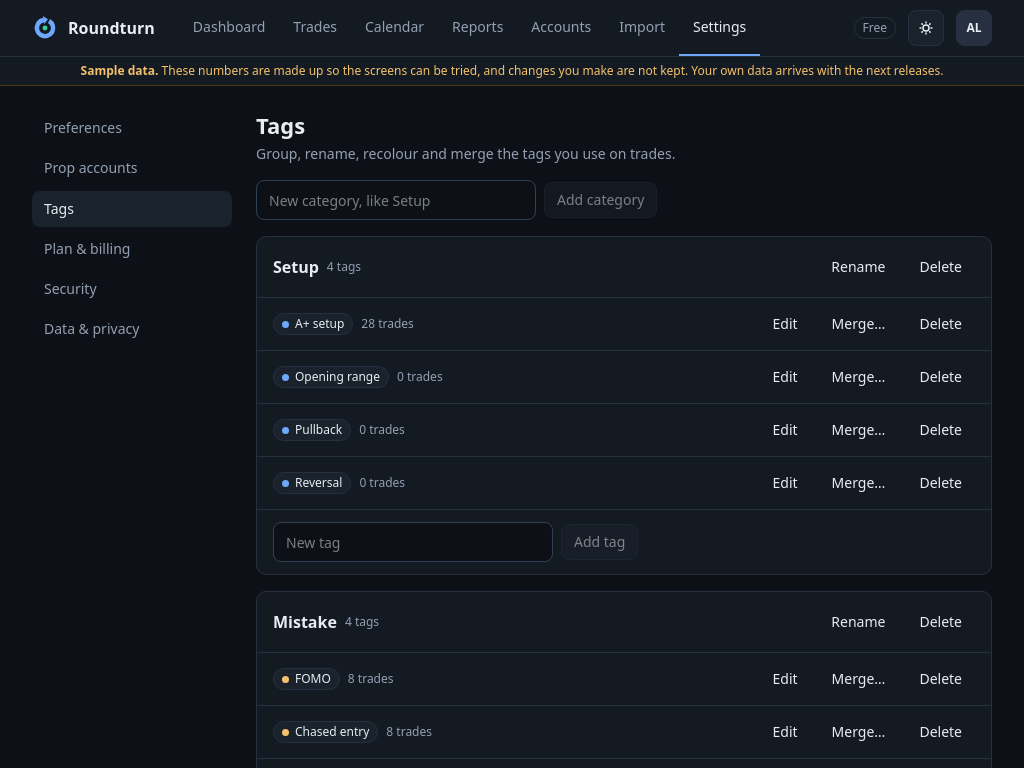
the tags screen › renames a category, and refuses a name another category has
Expected: the heading "Tags" is shown, [256,110,305,140]
Expected: the element named "Category Setup" is shown, [256,236,992,575]
Click the button with aria-label "Rename category Setup": point(858, 267) [818,249,898,285]
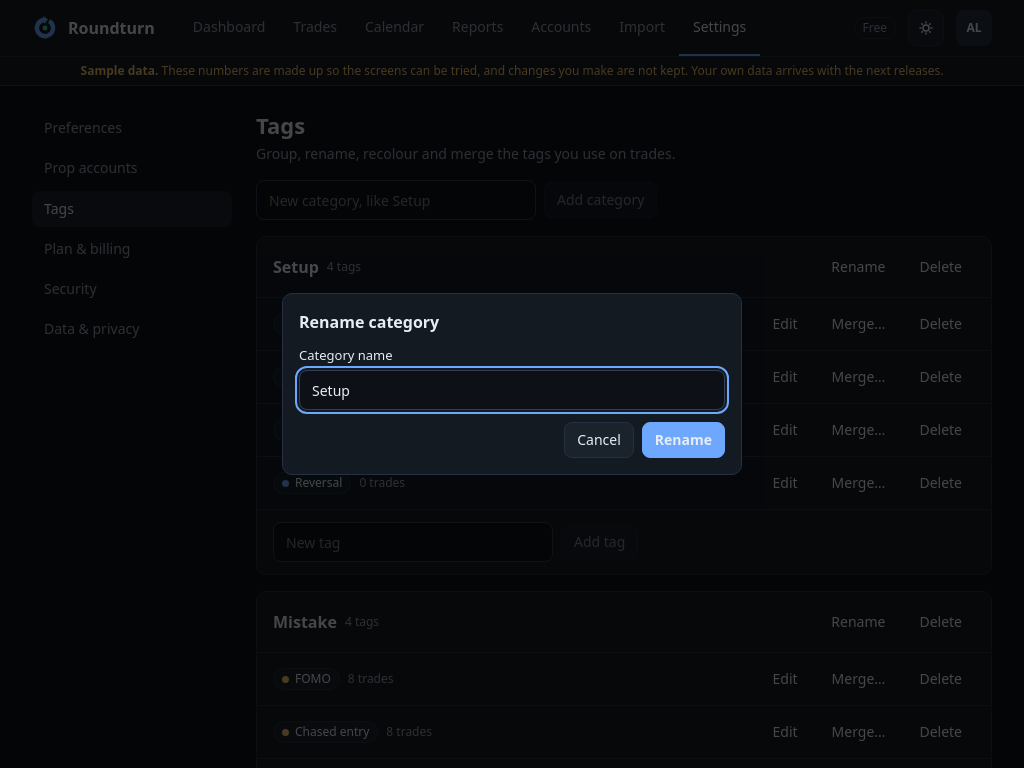
Replace the text in the field labelled "Category name" with "mistake": point(512, 390) [299,370,725,410]
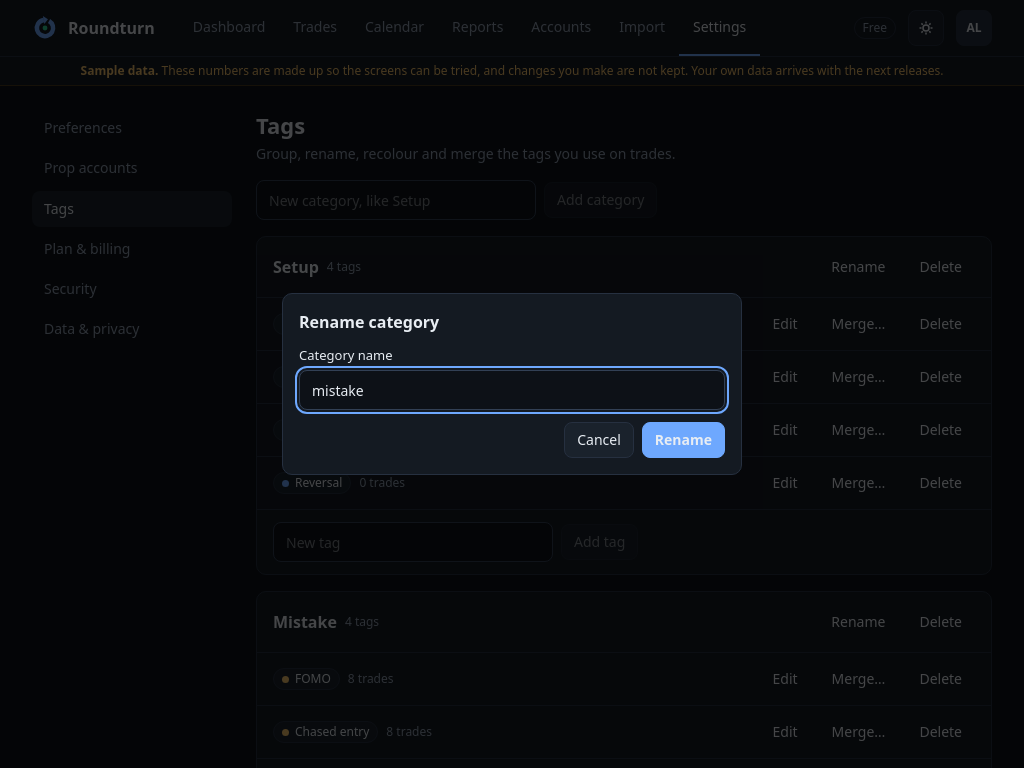
Click the button "Rename": point(683, 440) [642,422,725,458]
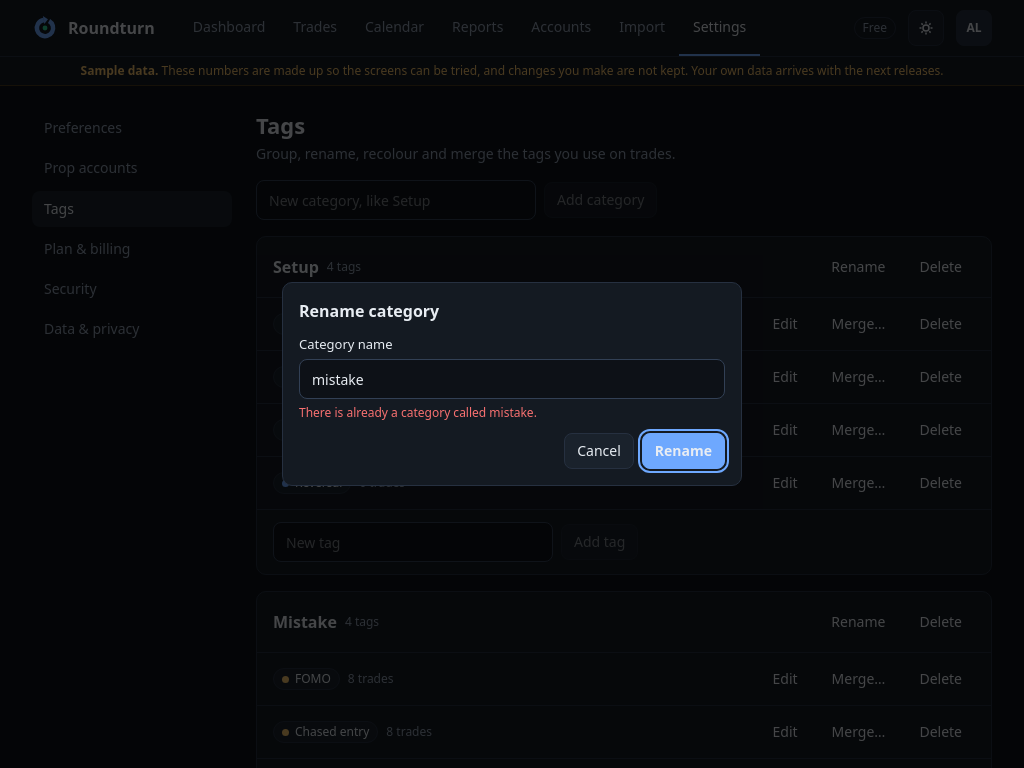
Expected: the message reads "There is already a category called mistake.", [299,404,537,421]
Replace the text in the field labelled "Category name" with "Entries": point(512, 379) [299,359,725,399]
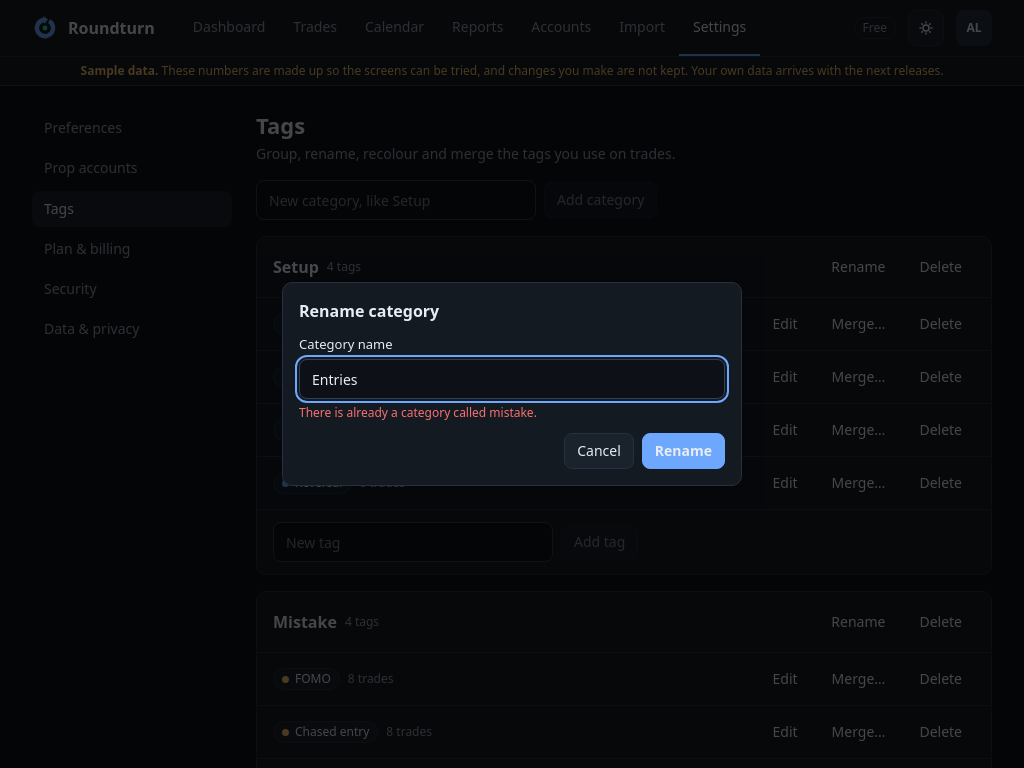
Click the button "Rename": point(683, 451) [642,433,725,469]
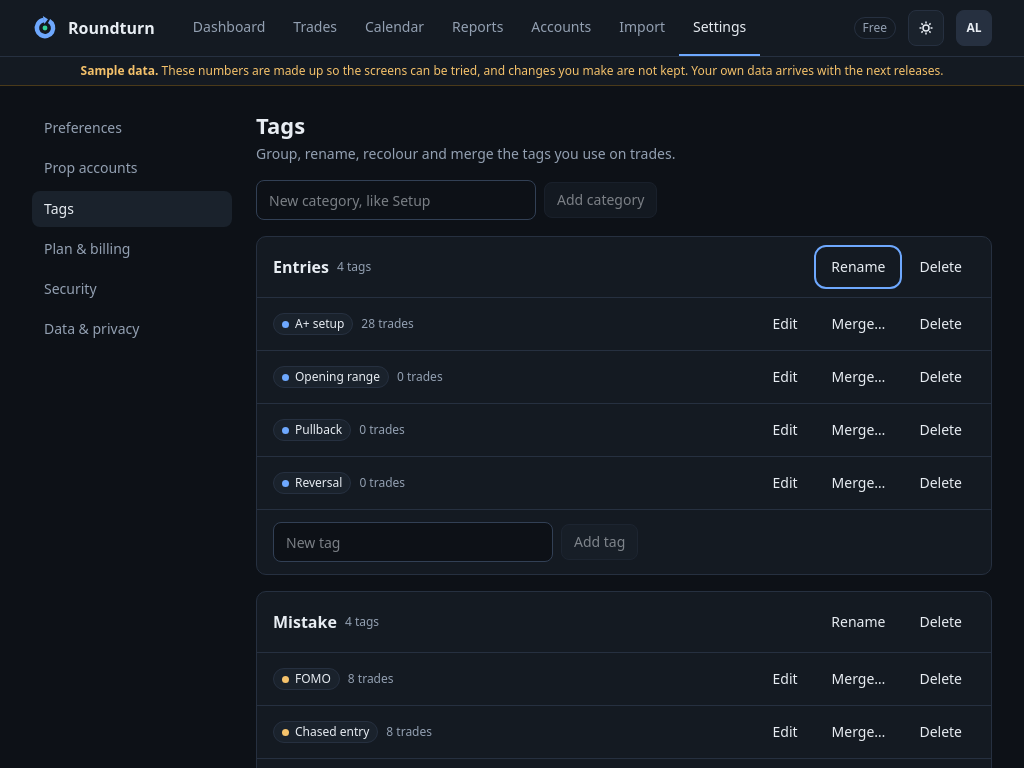
Expected: the element named "Category Entries" is shown, [256,236,992,575]
Expected: the dialog is gone
